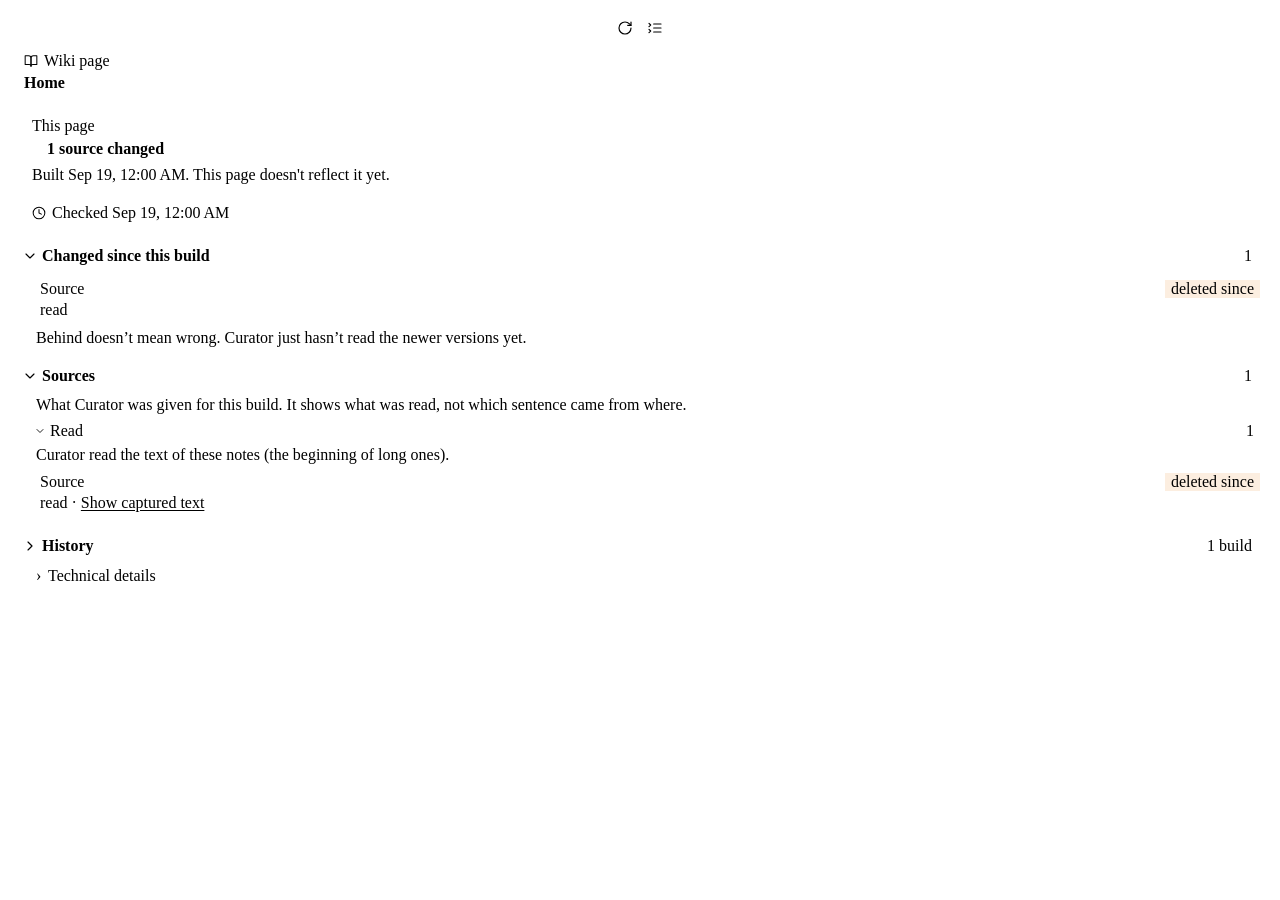
hides navigation for a missing source while retaining text and restores navigation after refresh
Later steps or results of the test are not shown.
Click the button "Show captured text".
click(143, 503)  # box x1=81 y1=492 x2=204 y2=514
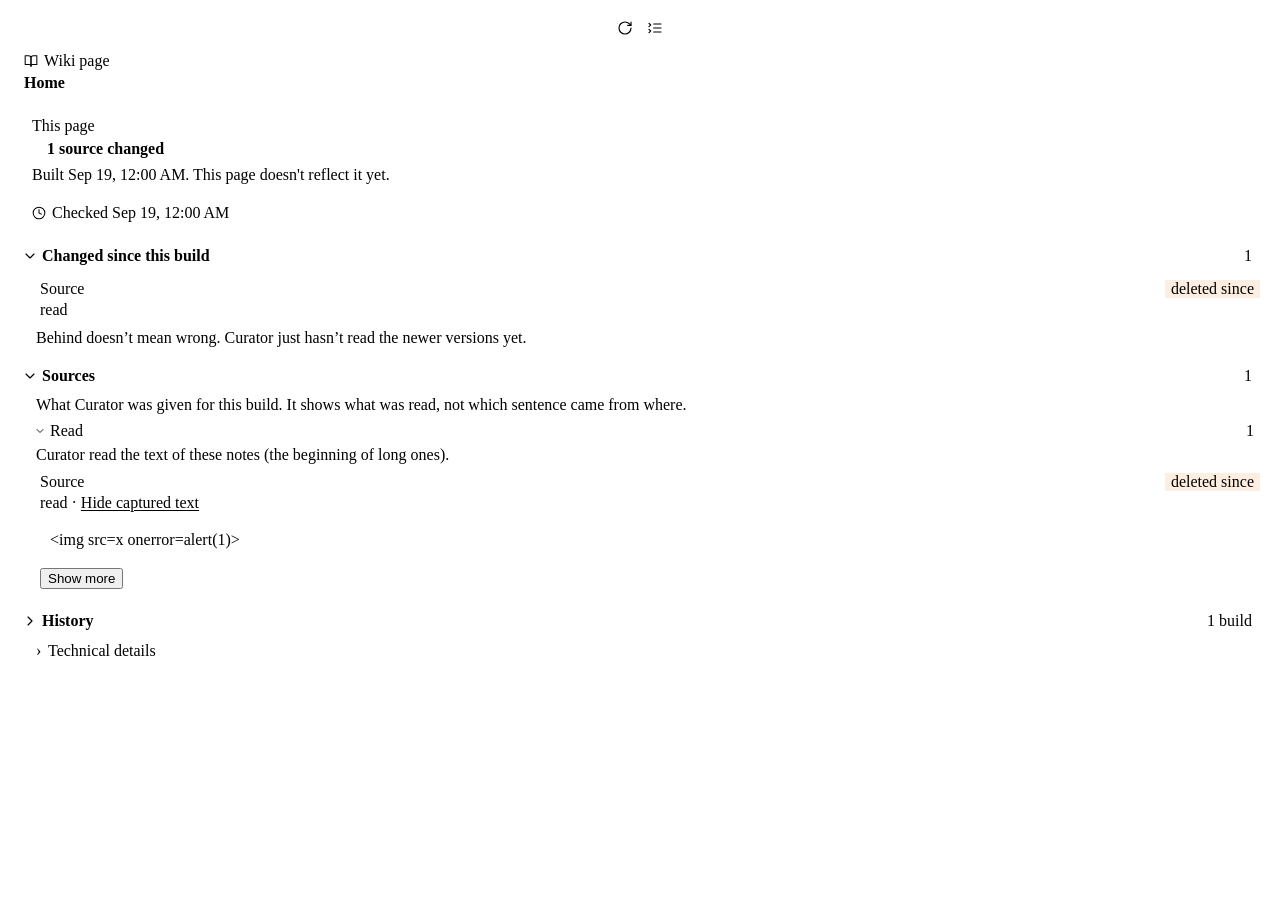
Result: the text "<img src=x onerror=alert(1)>" is shown at x1=50 y1=531 x2=240 y2=548
